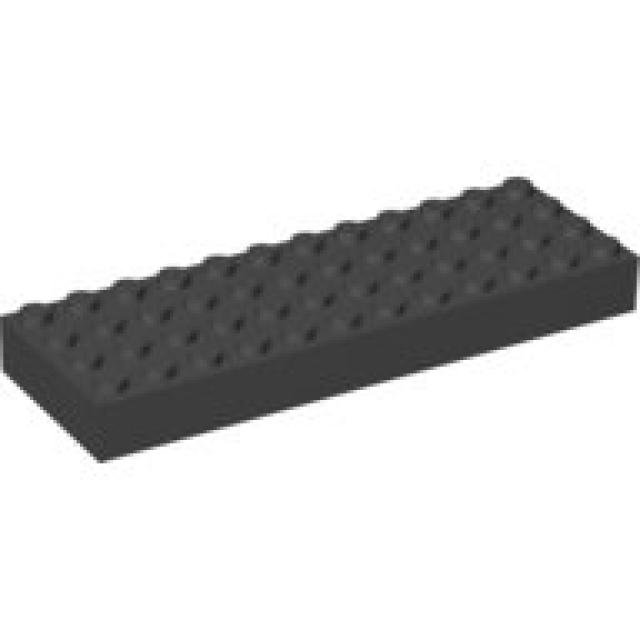Black_Large: (0, 177, 640, 467)
